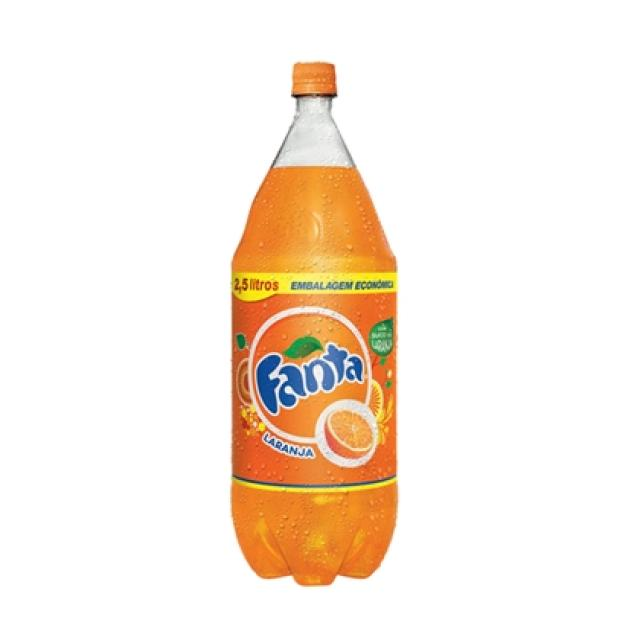bottle: (231, 62, 398, 585)
